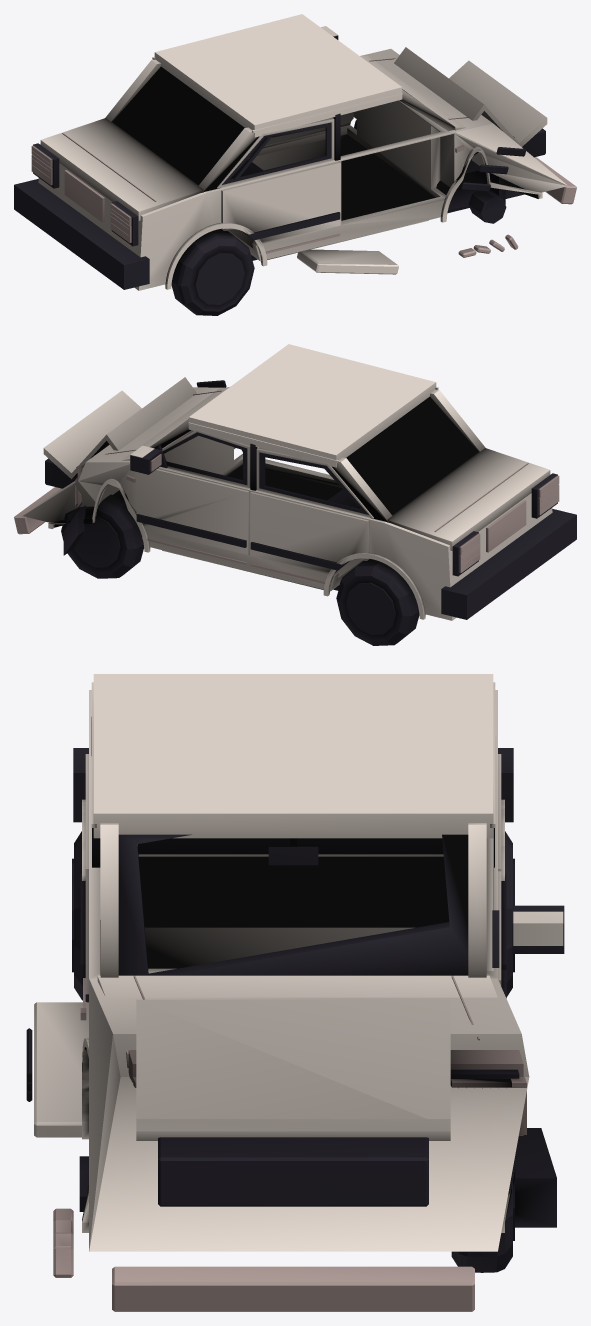
The model's file is veh.sedan-white.wrecked.glb.
3 views of the same model, one above another, from view 1: azimuth 30°, elevation 25°; view 2: azimuth 150°, elevation 25°; view 3: azimuth 270°, elevation 25° (orthographic). The views are drawn at different scales.
Visible parts, largest first — view 1: body, wheelRL, wheelFL; view 2: body, wheelRR, wheelFR; view 3: body, wheelFR, wheelRL, wheelRR.
Boxes of the visible parts, bbox=[...] form: body: bbox=[14, 14, 576, 290]; wheelRL: bbox=[171, 230, 254, 315]; wheelFL: bbox=[468, 190, 506, 223]; body: bbox=[14, 344, 576, 620]; wheelRR: bbox=[336, 560, 419, 645]; wheelFR: bbox=[61, 494, 143, 578]; body: bbox=[26, 674, 564, 1311]; wheelFR: bbox=[451, 1169, 514, 1272]; wheelRL: bbox=[72, 831, 88, 1002]; wheelRR: bbox=[505, 831, 514, 996].
Bounding box in the file's own units: 4.71 × 1.77 × 2.37.
